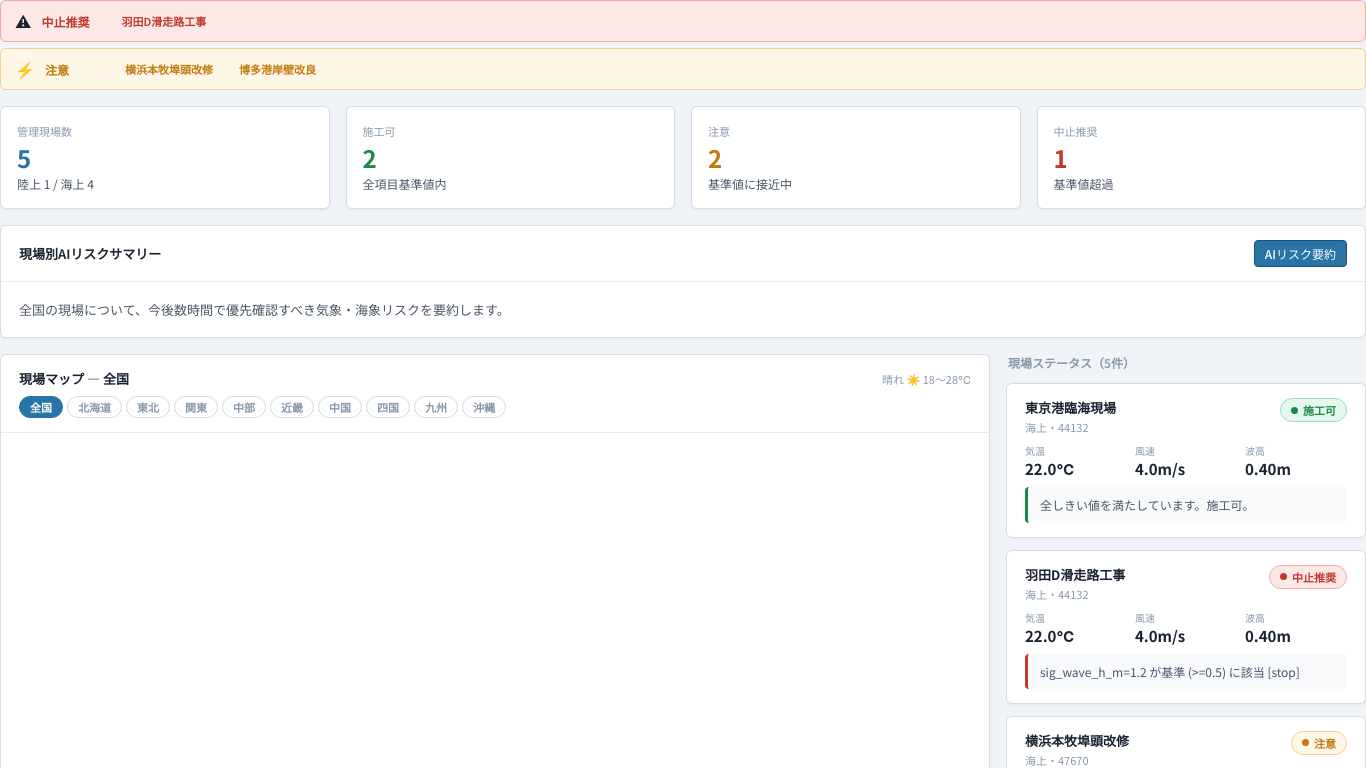
Test: task-12 接続モードの地域フィルタ › address から導出した地域で絞り込める（関東 → 4 件 / 九州は除外）
The width and height of the screenshot is (1366, 768).
Click the button "関東". click: (196, 407)
box: [174, 396, 218, 418]
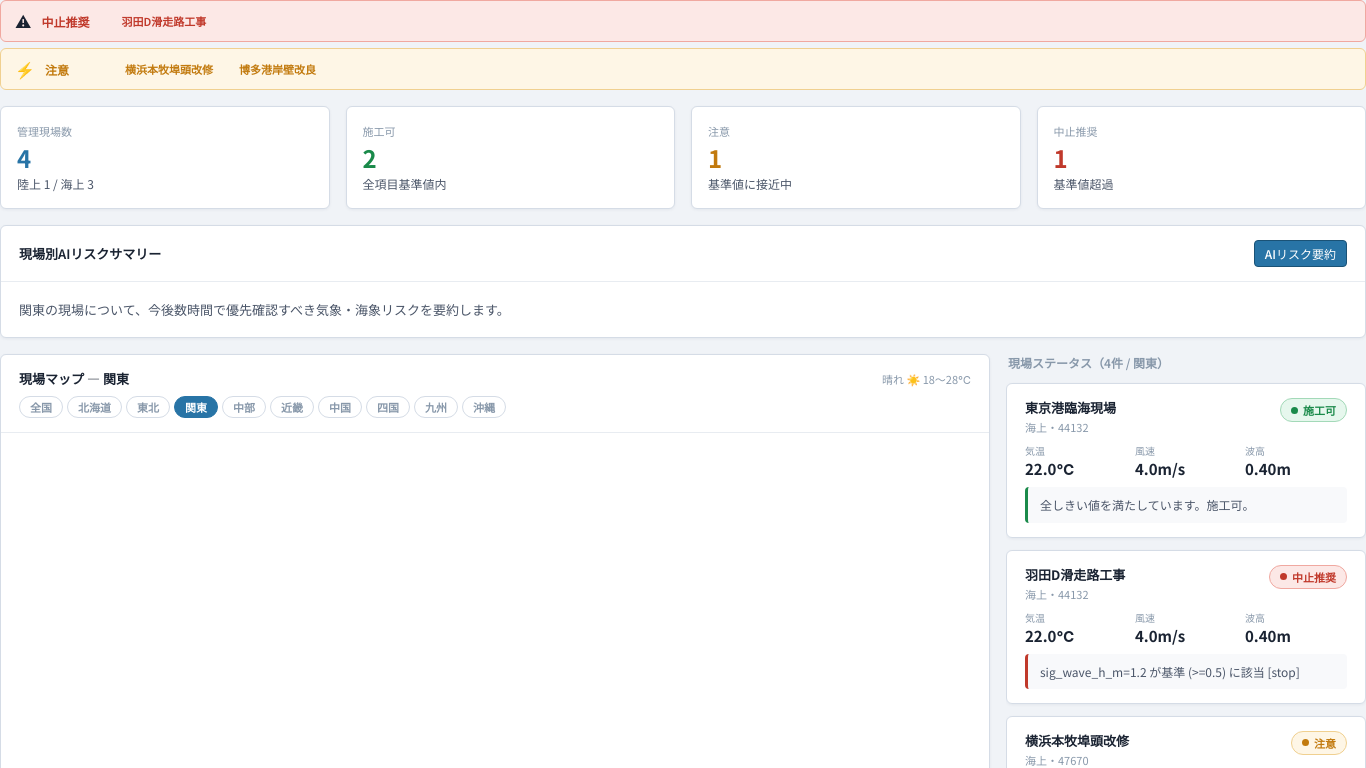
Expected: the text "現場マップ — 関東" is shown, [19, 369, 129, 388]
